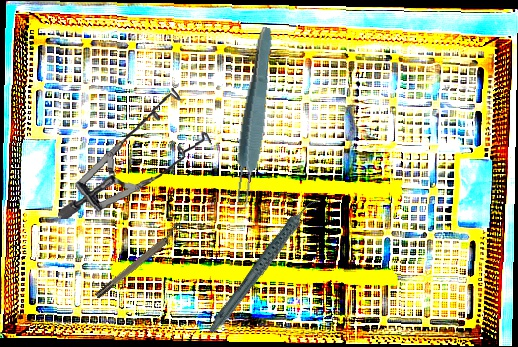Fixation Ring: (90, 220, 188, 301)
Handpiece: (185, 195, 345, 336)
Speculum: (48, 85, 217, 220)
Tissue Forceps: (228, 25, 279, 211)
